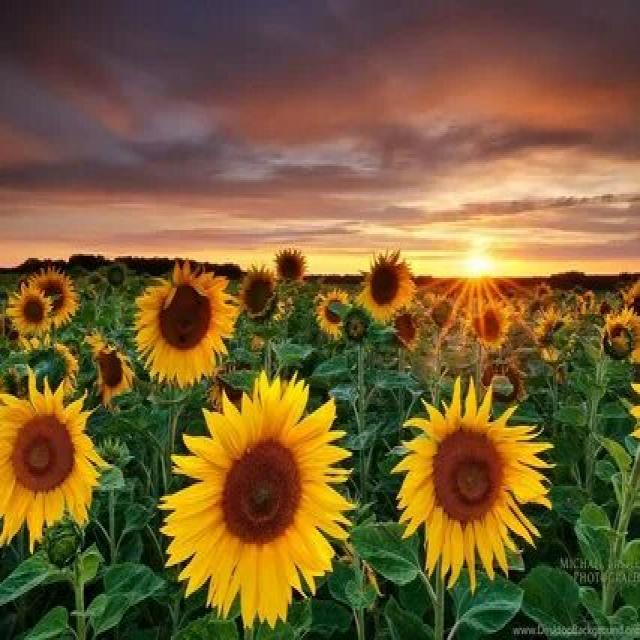sunflower: (164, 368, 352, 624), (388, 374, 549, 592), (2, 374, 106, 550), (138, 254, 240, 392), (358, 248, 417, 326), (85, 318, 136, 406), (6, 278, 54, 346), (232, 260, 284, 320), (468, 296, 516, 354), (274, 242, 309, 288)
